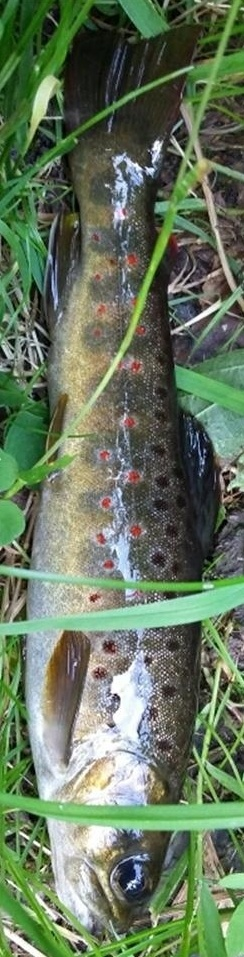Salmo trutta subsp. fario: (20, 20, 224, 937)
